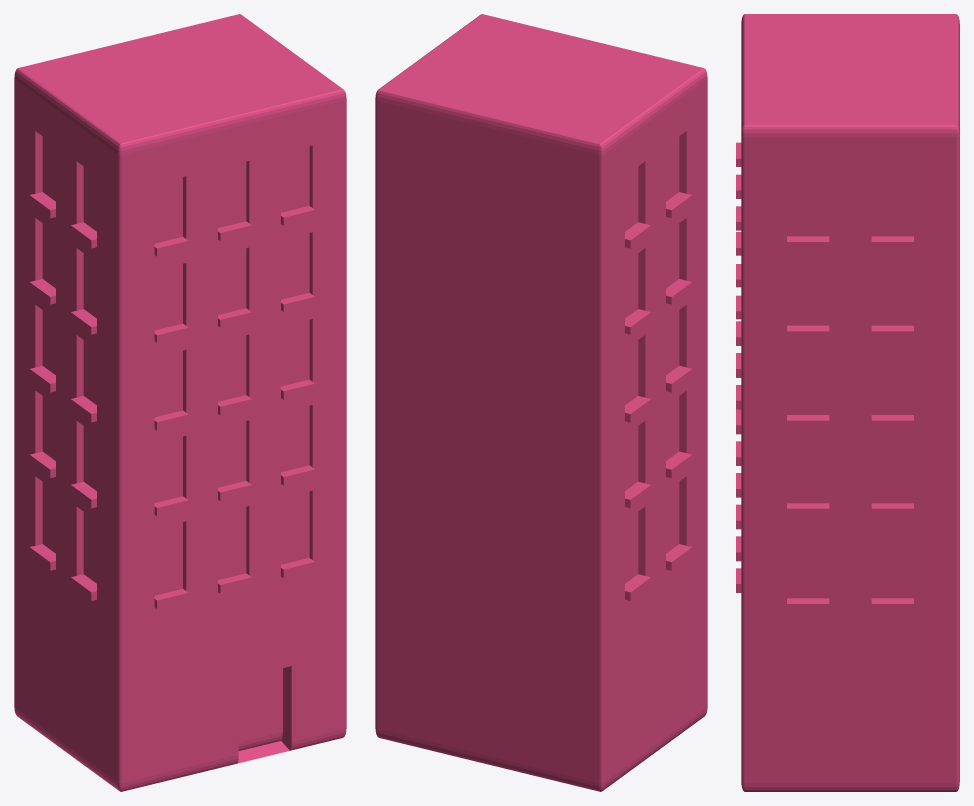
Rendered from brise-d-amour_immeuble-haut.fbx.
3 views of the same model, side by side, from view 1: azimuth 30°, elevation 25°; view 2: azimuth 150°, elevation 25°; view 3: azimuth 270°, elevation 25° (orthographic). The views are drawn at different scales.
Visible parts, largest first — view 1: Cube; view 2: Cube; view 3: Cube.
Boxes of the visible parts, x1=… form: Cube: x1=14, y1=14, x2=346, y2=791; Cube: x1=375, y1=14, x2=707, y2=791; Cube: x1=736, y1=14, x2=959, y2=791.
Size of the model in its own units: 315 by 819 by 249.
